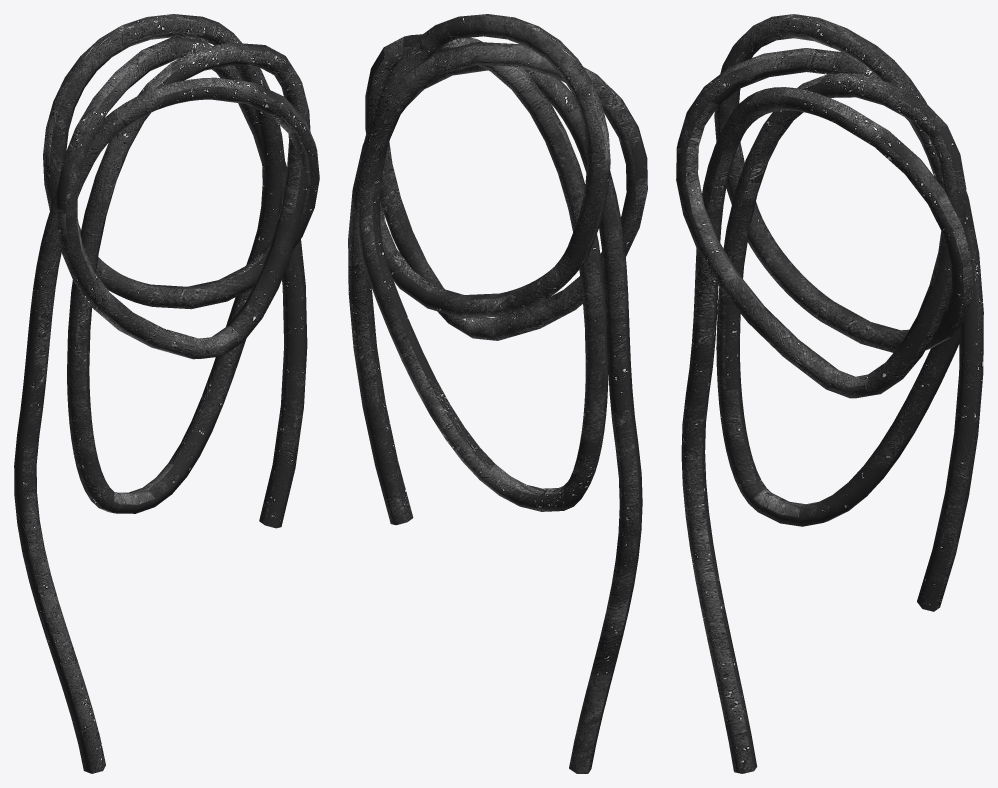
Rendered from Cable5.fbx.
The picture shows the model from 3 angles, left to right: view 1: azimuth 30°, elevation 25°; view 2: azimuth 150°, elevation 25°; view 3: azimuth 330°, elevation 25°; orthographic projection. The views are drawn at different scales.
Visible parts, largest first — view 1: Wire.005; view 2: Wire.005; view 3: Wire.005.
Boxes of the visible parts, box(x1,y1,x2,y2) form: Wire.005: box(14, 14, 319, 773); Wire.005: box(348, 14, 647, 773); Wire.005: box(676, 14, 983, 773).
Size of the model in its own units: 1123 by 2709 by 289.
Materials: 1 (1 with a texture image).
